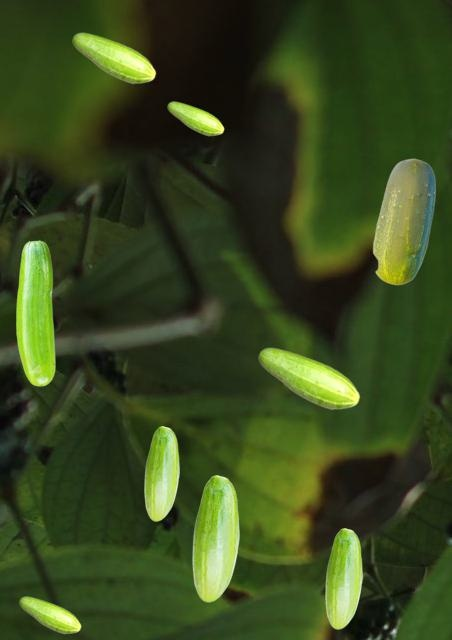cucumber: (372, 158, 434, 284), (258, 347, 359, 409), (192, 475, 238, 601), (16, 240, 54, 385), (72, 32, 155, 83), (325, 528, 361, 628), (144, 426, 178, 520), (19, 596, 80, 633), (167, 101, 223, 135)
